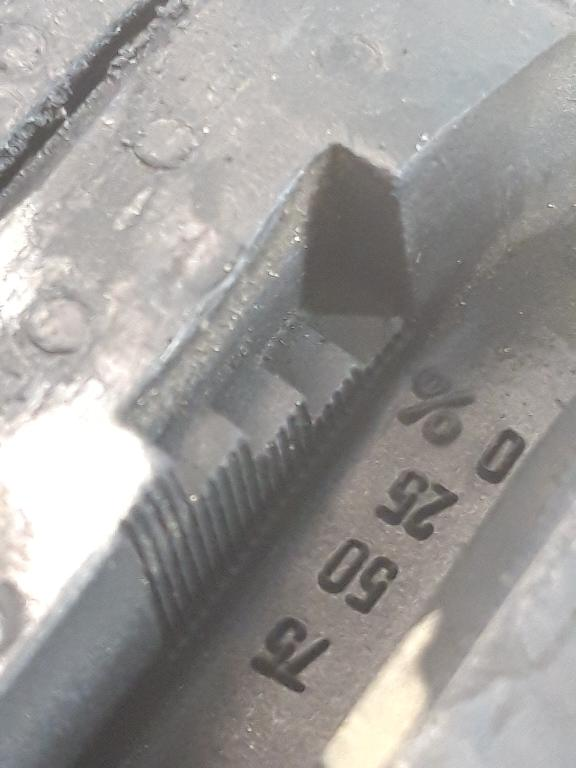temoin:100: (108, 143, 419, 608)
